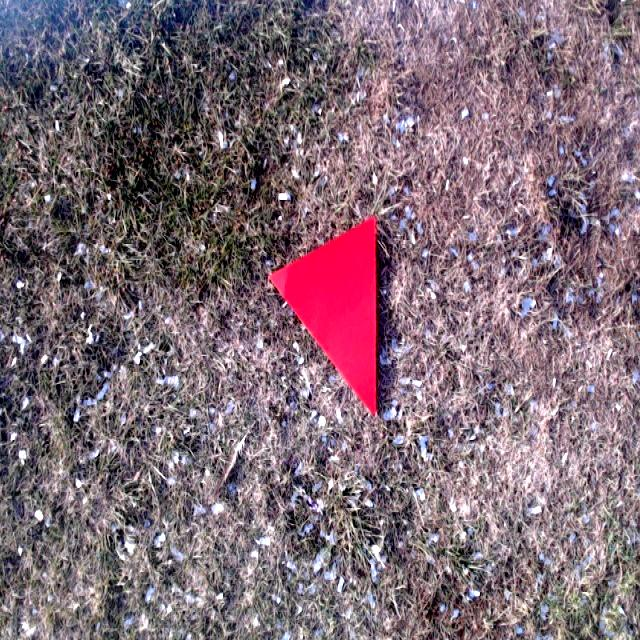red_triangle: (269, 216, 377, 415)
